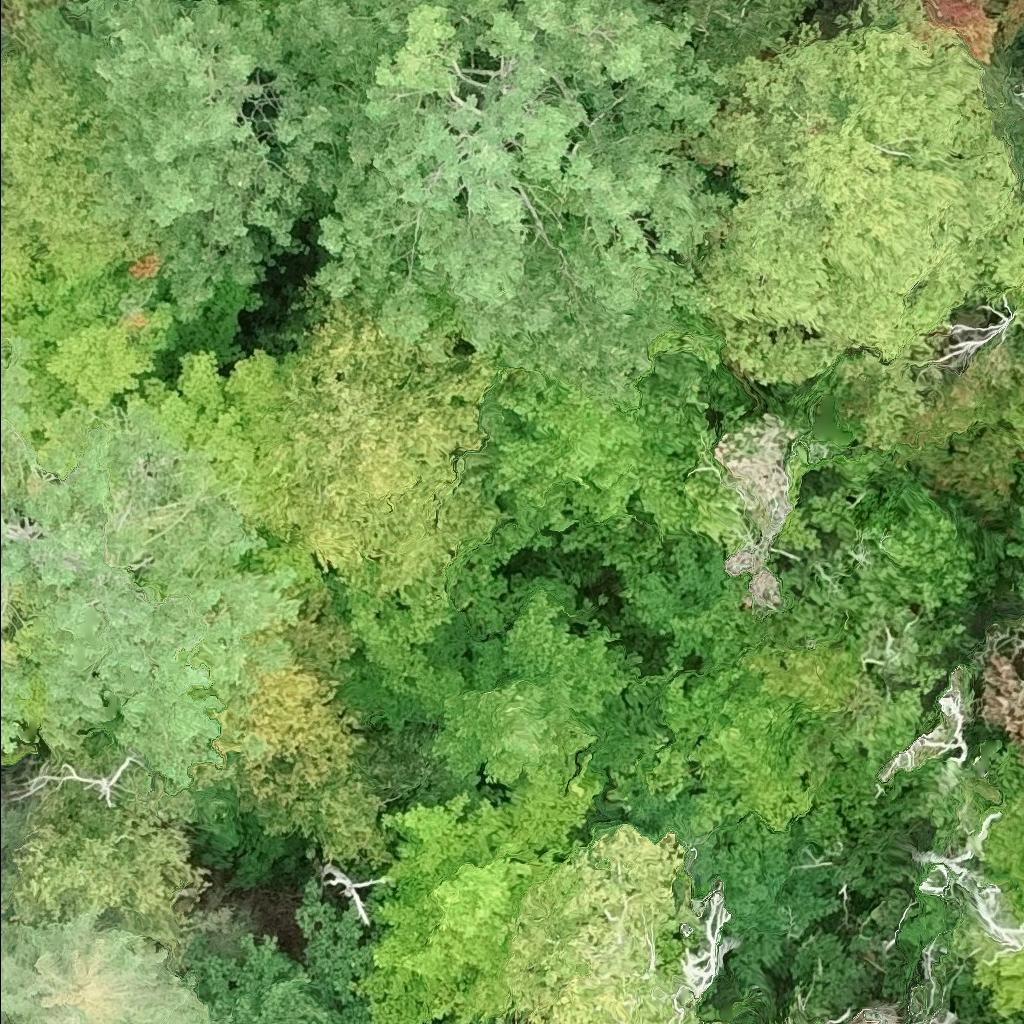crown: (569, 532, 1005, 996), (301, 0, 748, 401), (0, 339, 304, 790), (693, 30, 1023, 385), (237, 534, 642, 820), (29, 0, 342, 318), (245, 286, 512, 595), (463, 305, 756, 571), (351, 755, 604, 1023), (39, 278, 302, 512), (764, 434, 979, 692), (214, 590, 391, 869), (504, 827, 725, 1023), (0, 32, 165, 280), (0, 253, 175, 463), (835, 326, 1023, 506), (3, 783, 200, 949), (177, 882, 377, 1023), (0, 905, 211, 1023), (715, 413, 806, 617), (859, 0, 1023, 61), (978, 744, 1023, 917), (934, 293, 1018, 372), (677, 890, 737, 998), (982, 654, 1023, 751), (972, 948, 1023, 1015), (1003, 393, 1023, 559), (873, 999, 905, 1023), (913, 1012, 957, 1023), (1018, 568, 1023, 599)
